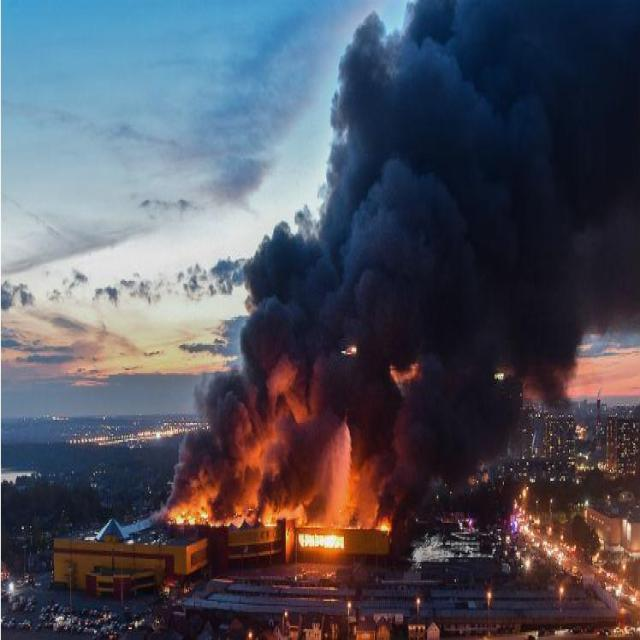Fire: (300, 526, 346, 551), (165, 507, 208, 531), (380, 517, 390, 534)
Smoke: (264, 418, 326, 501), (266, 354, 308, 426), (212, 463, 261, 520), (229, 316, 259, 409), (328, 416, 352, 526), (356, 6, 389, 81), (166, 428, 194, 500), (354, 455, 378, 527), (232, 400, 259, 463), (325, 136, 350, 184), (384, 21, 402, 81), (316, 182, 336, 232), (311, 357, 326, 417), (194, 364, 207, 424), (294, 202, 313, 240)
